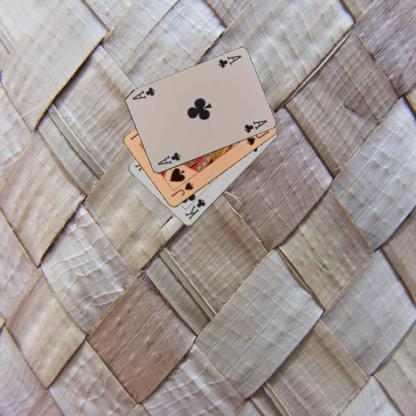Ac: (216, 52, 243, 70), (155, 150, 181, 166)
Js: (168, 180, 195, 198)
Kc: (182, 196, 207, 221)
